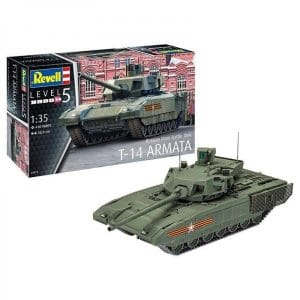Battle Tank: (93, 153, 298, 255), (60, 69, 186, 134)
